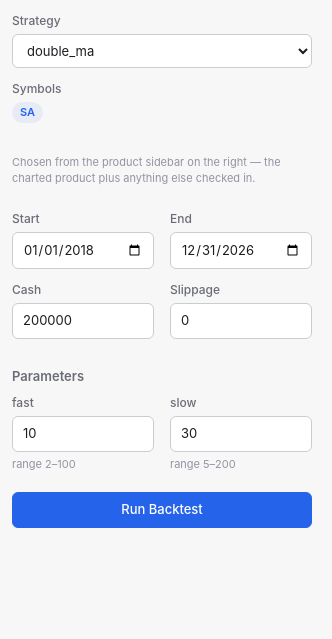
slippage validation › blocks the run and explains why when slippage is negative
Expected: the button "Run Backtest" is enabled, [12, 492, 312, 528]
Replace the text in the number field below "Slippage" with "-5" at (241, 321), box [170, 303, 312, 338]
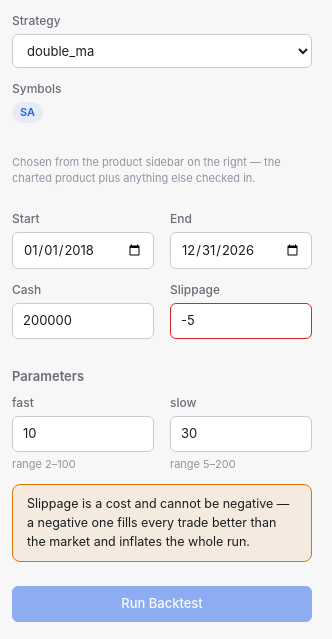
Result: the button "Run Backtest" is disabled at [12, 586, 312, 622]
Result: the text "cannot be negative" is shown at [27, 496, 289, 548]
